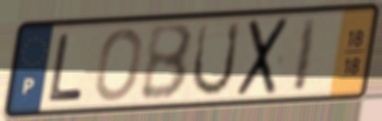B: (138, 21, 196, 103)
I: (290, 14, 321, 96)
L: (47, 31, 87, 105)
O: (92, 26, 145, 104)
U: (189, 19, 244, 100)
X: (233, 14, 292, 100)
